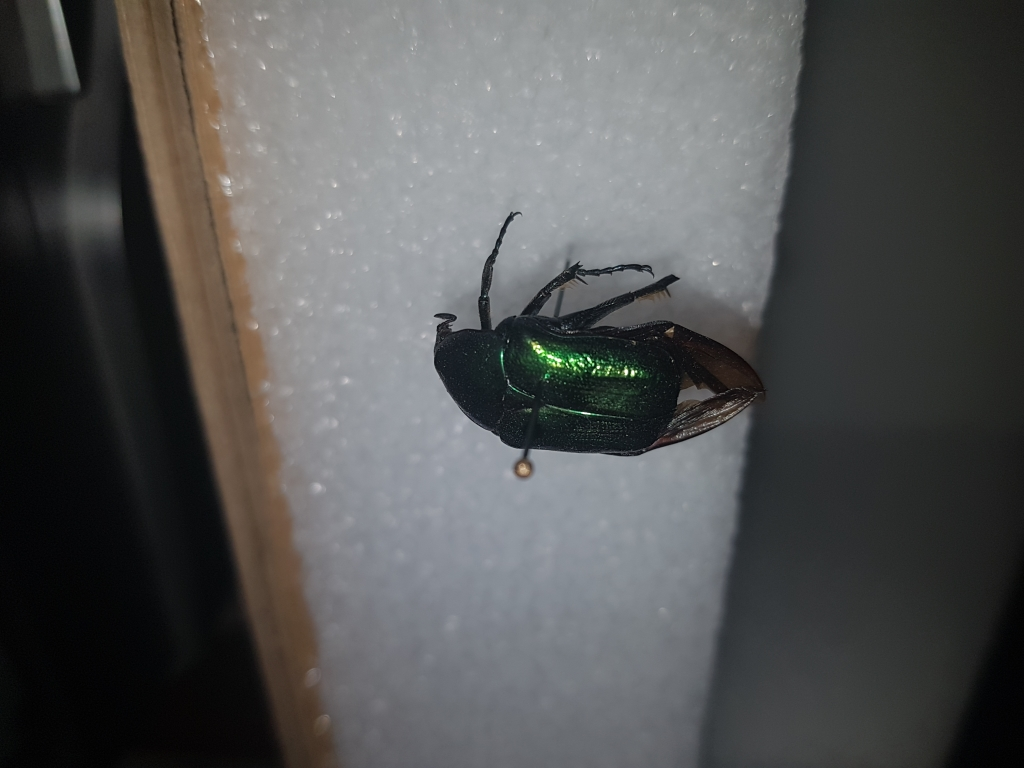Protaetia_angustata_angustata: (419, 197, 776, 472)
